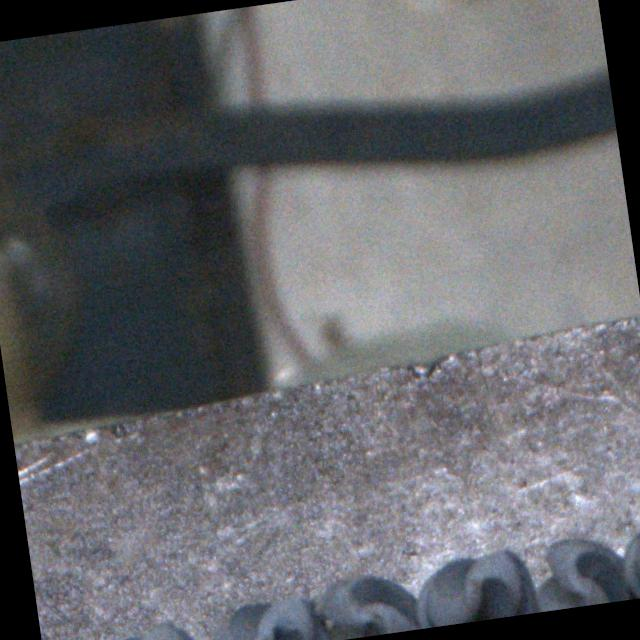tool_b: (408, 546, 536, 630), (524, 532, 634, 613), (311, 570, 426, 640), (204, 594, 328, 640), (95, 619, 213, 640), (618, 518, 640, 600)
